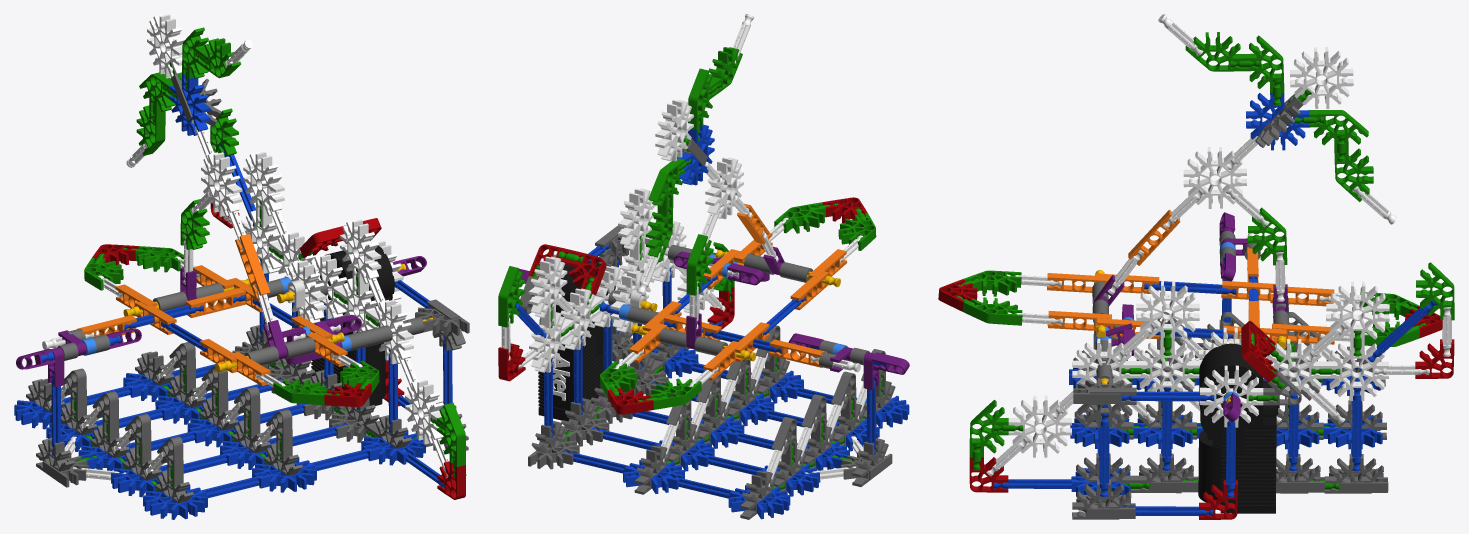
The picture shows the model from 3 angles, left to right: view 1: azimuth 30°, elevation 25°; view 2: azimuth 150°, elevation 25°; view 3: azimuth 270°, elevation 25°; orthographic projection. The views are drawn at different scales.
Visible parts, largest first — view 1: xP6_L21.001, xP6_L21.002, xP6_L21.004, xP6_L21.003, xP6_L21, xP6_L21.006, xP6_L21.005, xP6_L21.009, xP6_L21.008; view 2: xP6_L21.001, xP6_L21.002, xP6_L21.004, xP6_L21.003, xP6_L21, xP6_L21.005, xP6_L21.006, xP6_L21.009, xP6_L21.008; view 3: xP6_L21.002, xP6_L21.001, xP6_L21.003, xP6_L21.004, xP6_L21.009, xP6_L21, xP6_L21.005, xP6_L21.006.
Part boxes in pixels (x1,y1,x2,y2): xP6_L21.001: (26,74,469,503); xP6_L21.002: (42,14,449,480); xP6_L21.004: (14,74,452,519); xP6_L21.003: (61,27,465,491); xP6_L21: (77,234,347,385); xP6_L21.006: (16,256,426,387); xP6_L21.005: (92,202,466,499); xP6_L21.009: (311,245,394,405); xP6_L21.008: (123,263,433,372); xP6_L21.001: (520,139,895,519); xP6_L21.002: (501,14,866,487); xP6_L21.004: (515,124,909,519); xP6_L21.003: (498,47,882,489); xP6_L21: (629,203,847,380); xP6_L21.005: (498,197,867,414); xP6_L21.006: (518,246,909,390); xP6_L21.009: (538,261,615,421); xP6_L21.008: (631,250,840,361); xP6_L21.002: (986,14,1451,476); xP6_L21.001: (1072,94,1388,519); xP6_L21.003: (956,32,1454,489); xP6_L21.004: (993,93,1437,515); xP6_L21.009: (1198,343,1279,513); xP6_L21: (1047,209,1334,344); xP6_L21.005: (938,279,1454,519); xP6_L21.006: (1094,212,1287,422).
Bounding box in the file's own units: 2.72 × 2.69 × 2.98.
